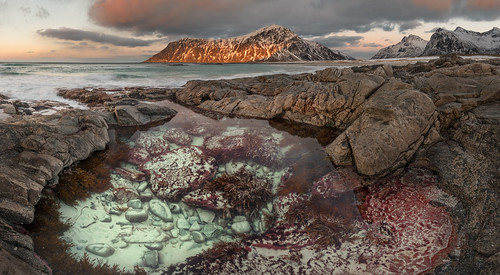mountain: (157, 30, 343, 58), (375, 27, 499, 63)
rocks: (219, 60, 500, 202), (1, 90, 154, 275)
sea: (10, 61, 274, 87)
sky: (1, 1, 481, 32)
